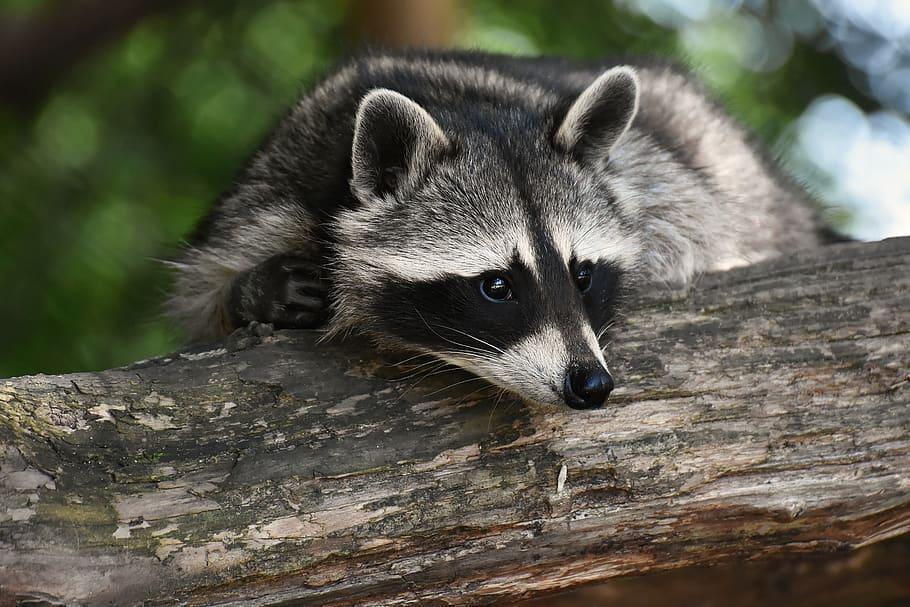raccoon: (154, 46, 881, 416)
